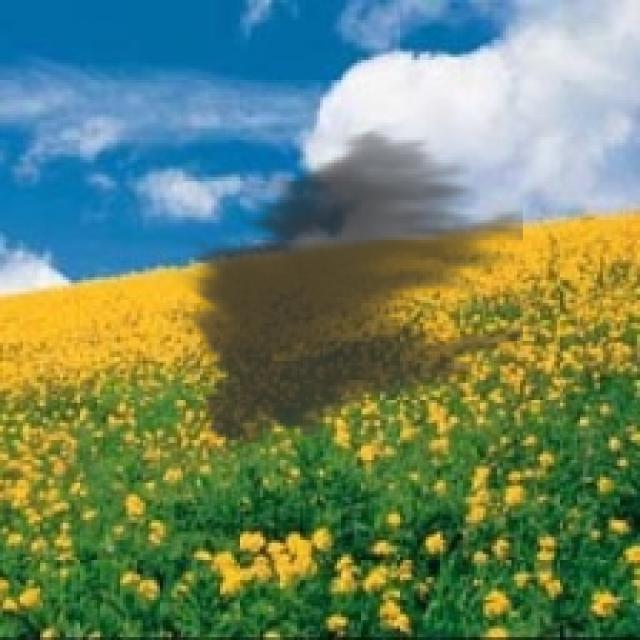Smoke: (171, 120, 523, 463)
